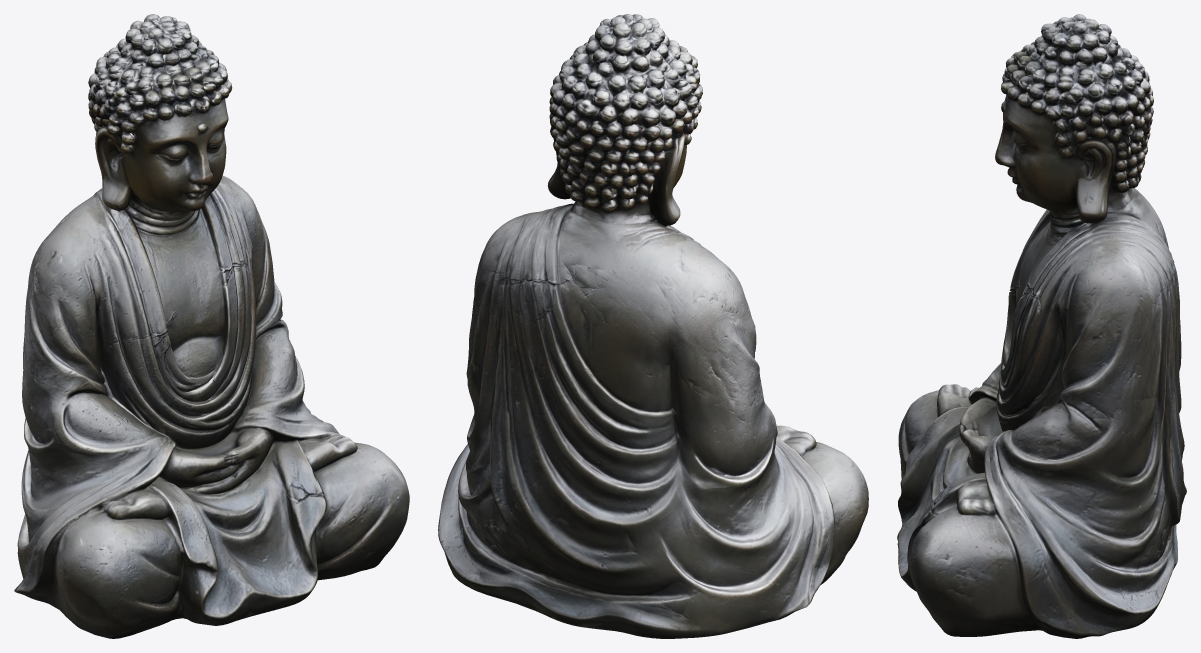
Rendered from buddha_1.glb.
The picture shows the model from 3 angles, left to right: view 1: azimuth 30°, elevation 25°; view 2: azimuth 150°, elevation 25°; view 3: azimuth 270°, elevation 25°; orthographic projection. The views are drawn at different scales.
Parts seen in each view (by area): view 1: tripo_node_2fbb4856-4c08-4d41-9417-c778061a5688; view 2: tripo_node_2fbb4856-4c08-4d41-9417-c778061a5688; view 3: tripo_node_2fbb4856-4c08-4d41-9417-c778061a5688.
Boxes of the visible parts, x1,y1,x2,y2 form: tripo_node_2fbb4856-4c08-4d41-9417-c778061a5688: [14, 14, 409, 638]; tripo_node_2fbb4856-4c08-4d41-9417-c778061a5688: [438, 14, 868, 638]; tripo_node_2fbb4856-4c08-4d41-9417-c778061a5688: [897, 14, 1186, 638].
Bounding box in the file's own units: 0.653 × 0.9797 × 0.4753.
1 material, 1 textured.
